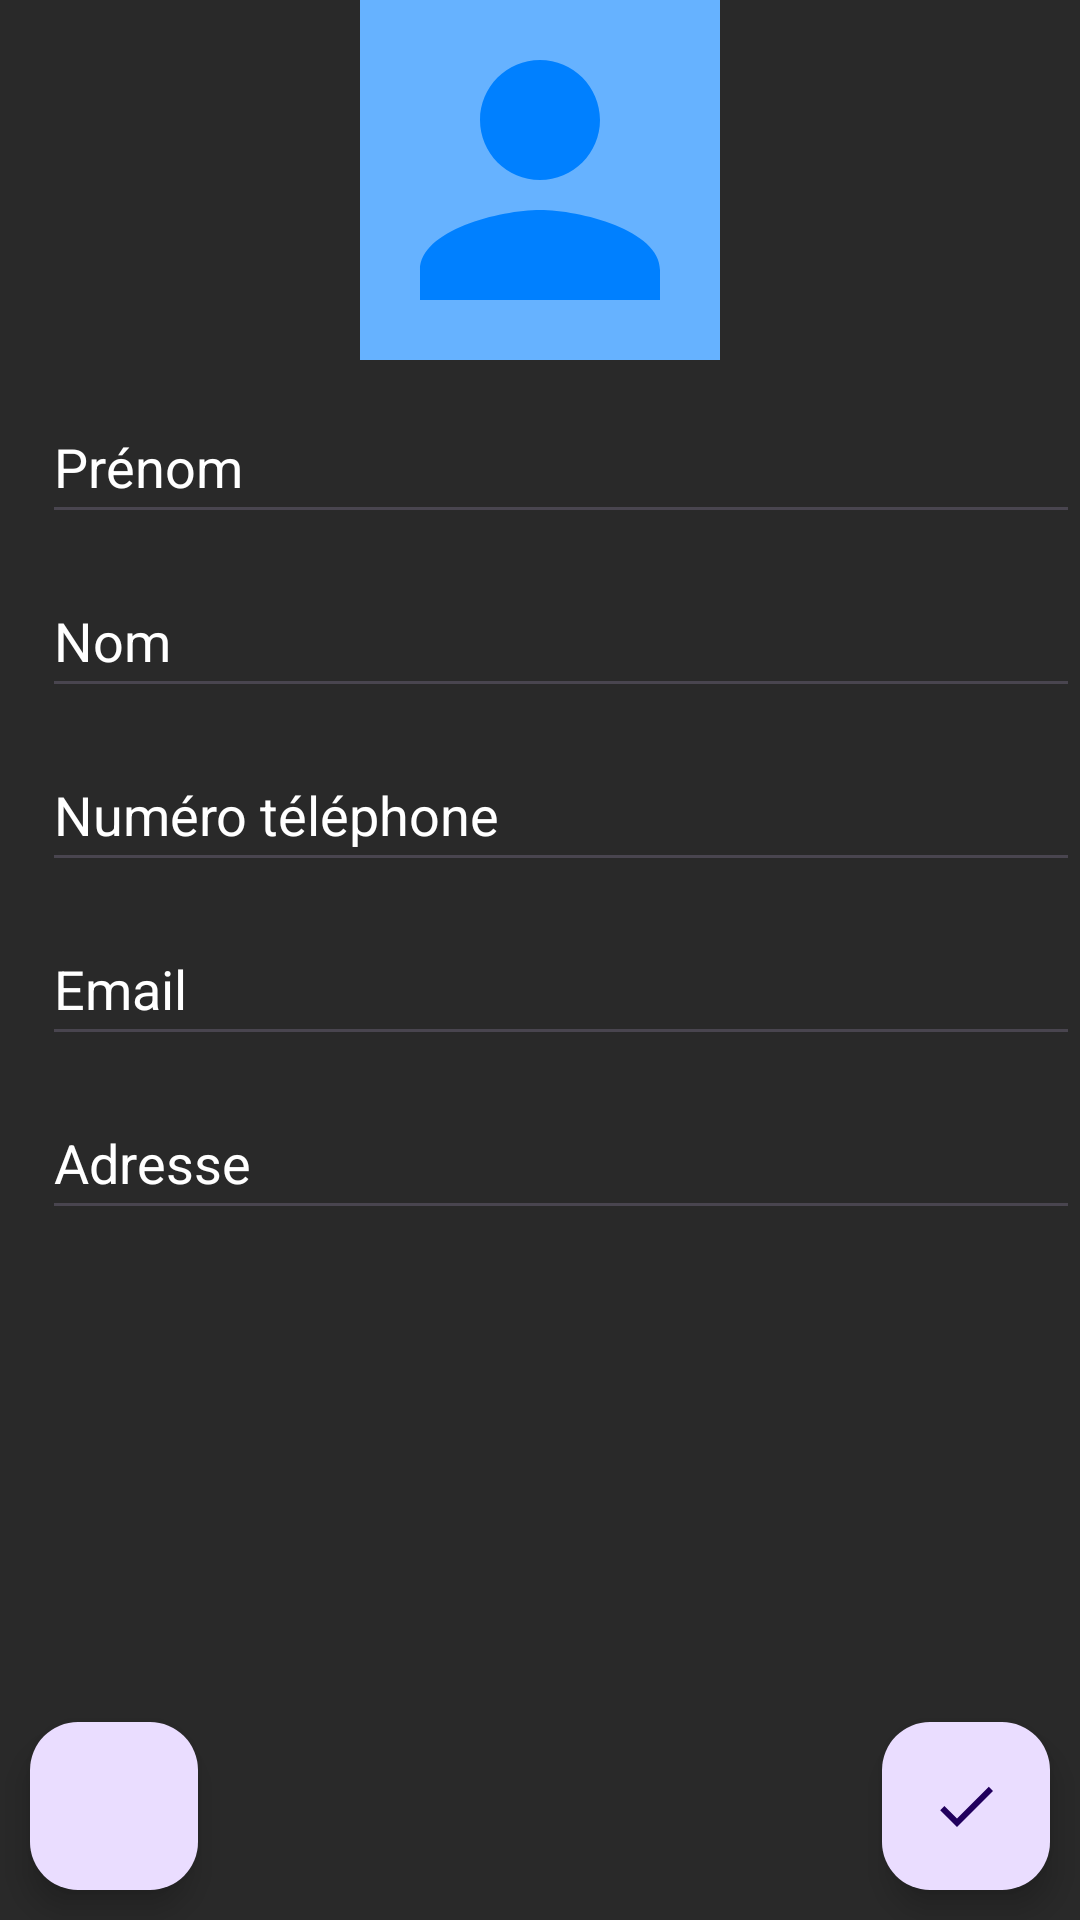

Point at icon controls on the screen. Image size 1080px x 1920px, points as point (x, y).
done: point (966, 1806)
person: point (540, 180)
